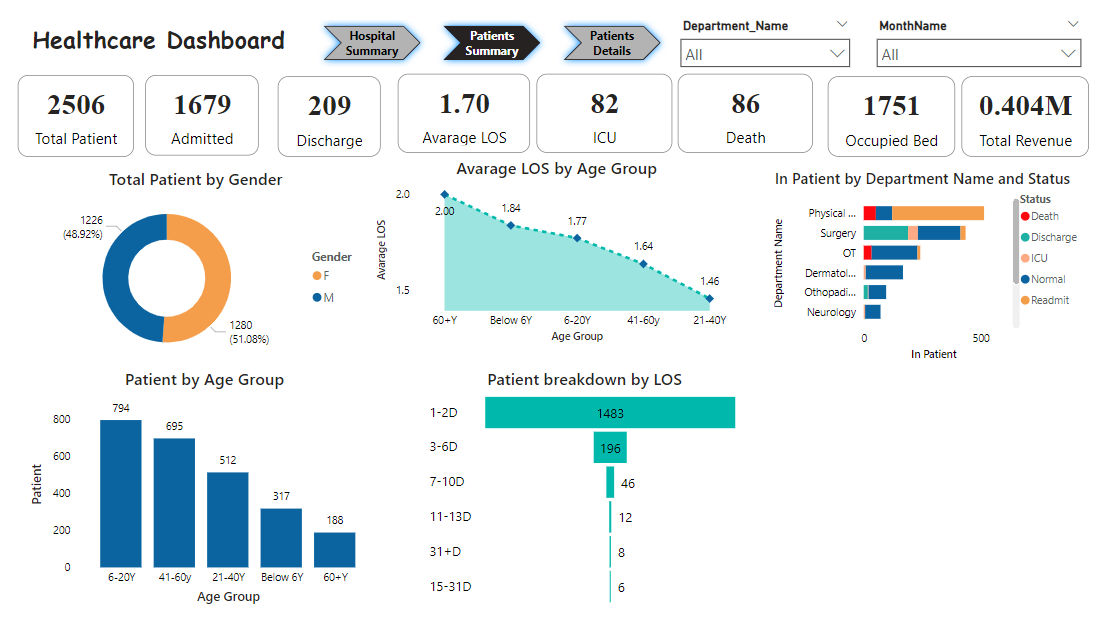

This screenshot's page, from the dashboard's own definition file:
{"tool":"powerbi","page":{"name":"Patients Summary ","canvas":[1280,720],"ordinal":1},"visuals":[{"type":"cardVisual","fields":{"Data":["Measure.Total Patient"]},"box":[21.2,86.2,132.5,93.8],"z":0},{"type":"textbox","box":[32.9,20.6,330.4,65.8],"z":1000},{"type":"slicer","fields":{"Values":["Department.Department_Name"]},"box":[769.2,15.1,213.9,71.3],"z":2000},{"type":"slicer","fields":{"Values":["Calendar_date.MonthName"]},"box":[992.6,15.1,253.6,71.3],"z":3000},{"type":"cardVisual","fields":{"Data":["Measure.In Patient"]},"box":[167.5,85.6,129.6,91.7],"z":4000},{"type":"cardVisual","fields":{"Data":["Measure.Total Discharge"]},"box":[319,86.8,117.4,91.7],"z":5000},{"type":"cardVisual","fields":{"Data":["Measure.Avarage LOS"]},"box":[456,84.3,151.6,90.5],"z":6000},{"type":"cardVisual","fields":{"Data":["Measure.ICU"]},"box":[613.7,84.3,155.2,90.5],"z":7000},{"type":"cardVisual","fields":{"Data":["Measure.Death"]},"box":[775,84.3,154,90.5],"z":8000},{"type":"cardVisual","fields":{"Data":["Measure.Occupied Bed"]},"box":[947.4,86.8,145.5,91.7],"z":9000},{"type":"cardVisual","fields":{"Data":["Measure.Total Revenue"]},"box":[1100.2,86.8,145.5,91.7],"z":10000},{"type":"donutChart","fields":{"Category":["Detail data dataset.Gender"],"Y":["Measure.Total Patient"]},"box":[20.8,191.9,407.1,228.6],"z":11000},{"type":"columnChart","fields":{"Y":["Measure.Total Patient"],"Category":["Detail data dataset.Age Bucket"]},"box":[31.4,420,407.1,275.7],"z":12000},{"type":"areaChart","fields":{"Y":["Measure.Avarage LOS"],"Category":["Detail data dataset.Age Bucket"]},"box":[427.8,178.5,420.5,218.8],"z":13000},{"type":"barChart","fields":{"Category":["Department.Department_Name"],"Y":["Measure.In Patient"],"Series":["Detail data dataset.Status"]},"box":[881.4,191.9,364.3,226.1],"z":14000},{"type":"funnel","title":"Patient breakdown by LOS","fields":{"Y":["Measure.Total Patient"],"Category":["Detail data dataset.Custom"]},"box":[487.6,420.5,364.5,277.4],"z":15000},{"type":"pageNavigator","box":[363.1,20.8,402.2,55],"z":17000}]}

Visuals, with their boxes in screenshot pixels (x1, y1, x2, y2), scaled from the page's 1280x720 canvas onto the 1117x627 screenshot:
cardVisual - Measure.Total Patient: 19/75/134/157
textbox: 29/18/317/75
slicer - Department.Department_Name: 671/13/858/75
slicer - Calendar_date.MonthName: 866/13/1088/75
cardVisual - Measure.In Patient: 146/75/259/154
cardVisual - Measure.Total Discharge: 278/76/381/155
cardVisual - Measure.Avarage LOS: 398/73/530/152
cardVisual - Measure.ICU: 536/73/671/152
cardVisual - Measure.Death: 676/73/811/152
cardVisual - Measure.Occupied Bed: 827/76/954/155
cardVisual - Measure.Total Revenue: 960/76/1087/155
donutChart - Detail data dataset.Gender x Measure.Total Patient: 18/167/373/366
columnChart - Measure.Total Patient x Detail data dataset.Age Bucket: 27/366/383/606
areaChart - Measure.Avarage LOS x Detail data dataset.Age Bucket: 373/155/740/346
barChart - Department.Department_Name x Measure.In Patient: 769/167/1087/364
"Patient breakdown by LOS" funnel: 426/366/744/608
pageNavigator: 317/18/668/66
